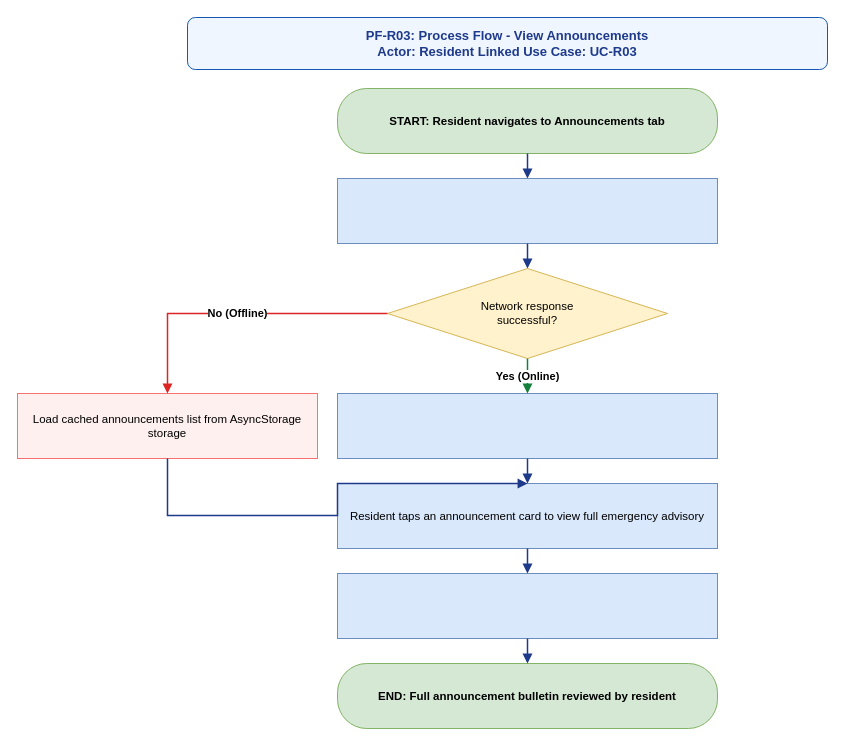
Some shapes in this 845 by 746 pixel diagram are drawn without their labels. The shapes that lost their labels are listed below. From the top down, each one's centre as x and y in pixels, then its label:
At [527,211]: "App sends GET /api/announcements (scoped to resident barangay)".
At [527,425]: "Render live announcements feed sorted chronologically".
At [527,605]: "App increments read state locally and decrements unread notification badge".
